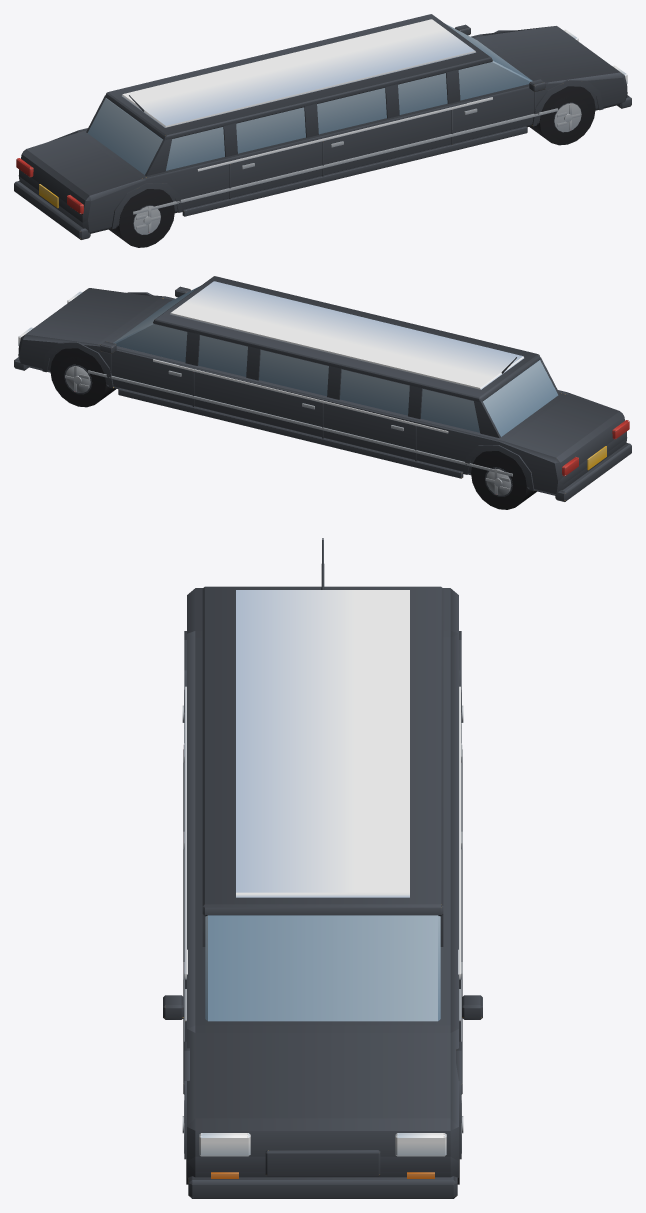
File: ck_limousine.fbx
3 renders of one model, top to bottom at view 1: azimuth 30°, elevation 25°; view 2: azimuth 150°, elevation 25°; view 3: azimuth 270°, elevation 25°, orthographic. The views are drawn at different scales.
Parts seen in each view (by area): view 1: ck_limousine; view 2: ck_limousine; view 3: ck_limousine.
Boxes of the visible parts, bbox=[...] form: ck_limousine: bbox=[14, 14, 631, 247]; ck_limousine: bbox=[14, 276, 631, 509]; ck_limousine: bbox=[163, 538, 482, 1198].
Size of the model in its own units: 2500 by 533 by 627.
